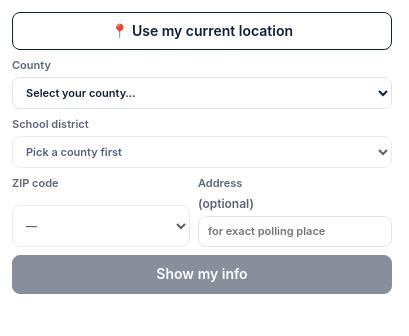
LocationForm — use my current location › shows a fallback note and keeps manual entry when permission is denied
Click the button "📍 Use my current location" at (202, 31), box [12,12,392,50]
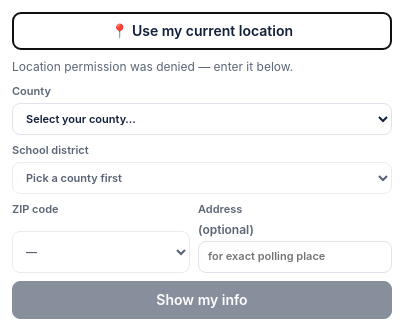
Expected: the dropdown labelled "County" is shown, [12,103,392,135]
Result: the text "Location permission was denied — enter it below." is shown at [12,59,293,74]
